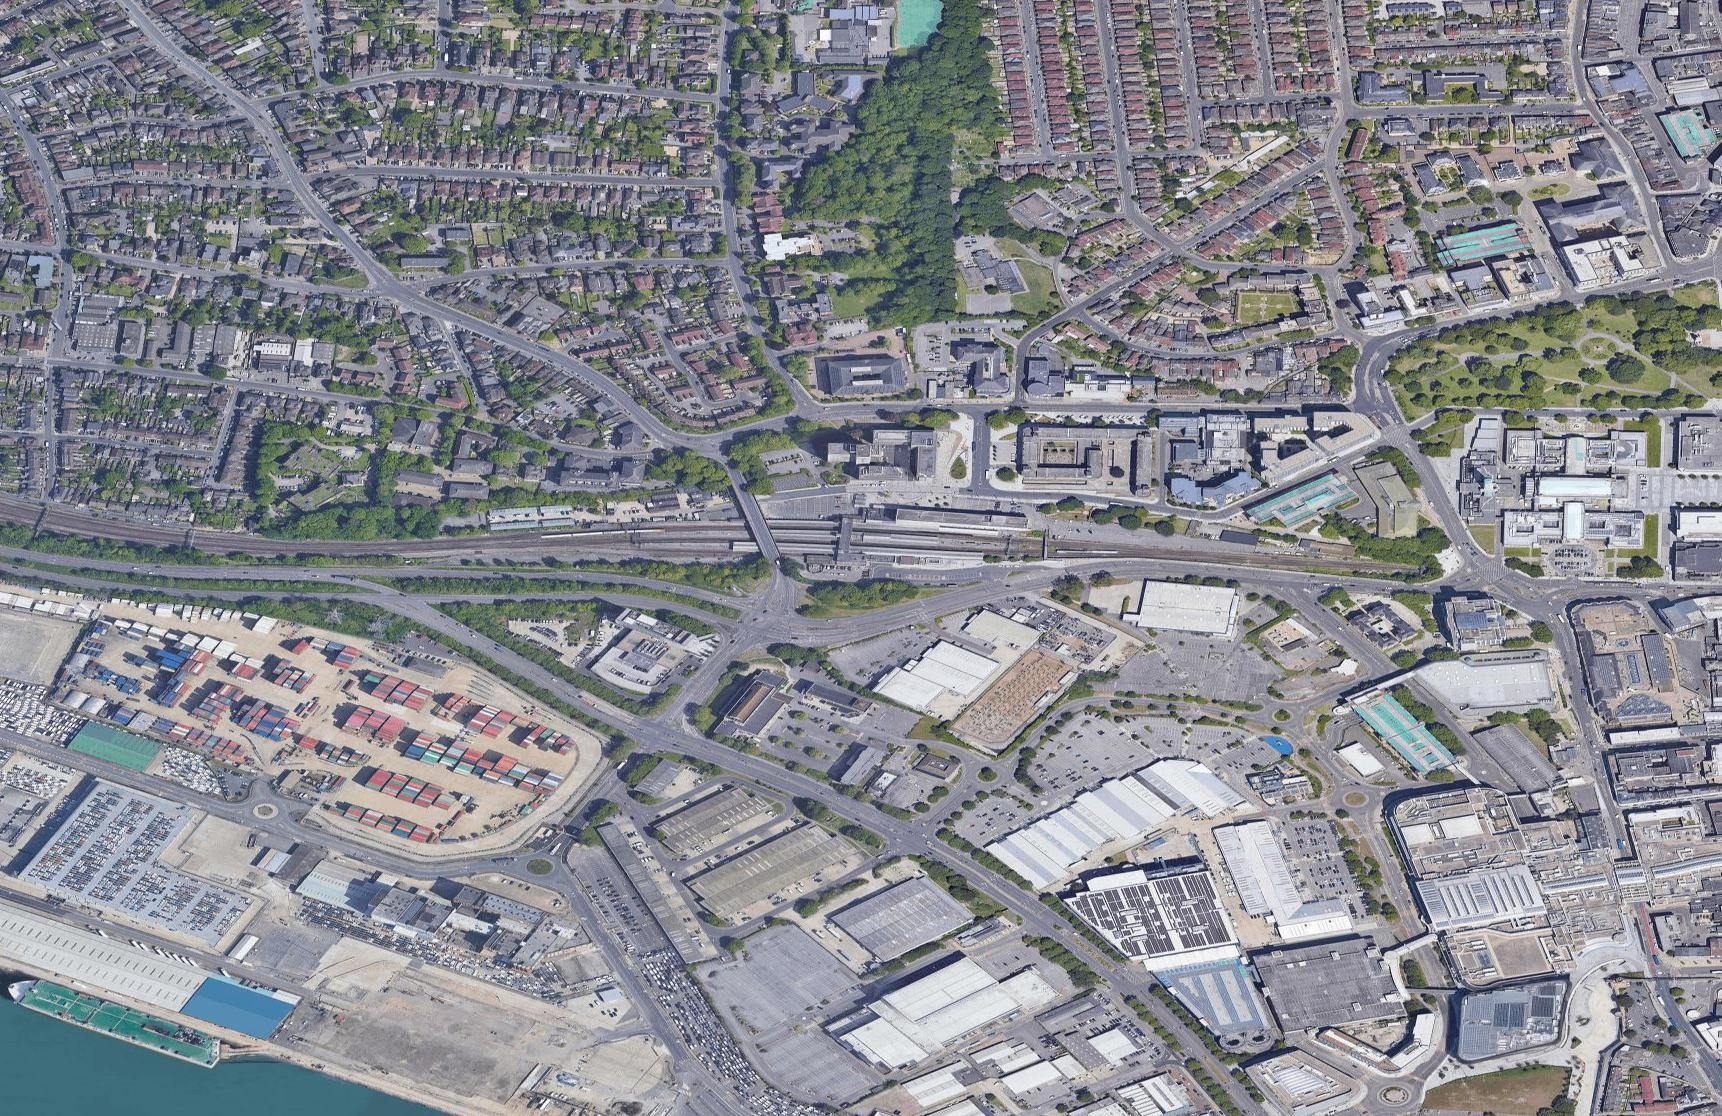bridge: (722, 472, 784, 566)
industrial: (1061, 756, 1554, 1065)
motorway: (600, 569, 884, 654), (774, 776, 974, 874), (1, 545, 300, 610), (297, 549, 597, 613), (572, 693, 779, 785), (965, 875, 1126, 993), (1125, 990, 1273, 1116), (399, 608, 574, 694)
train_station: (805, 468, 1068, 605)
